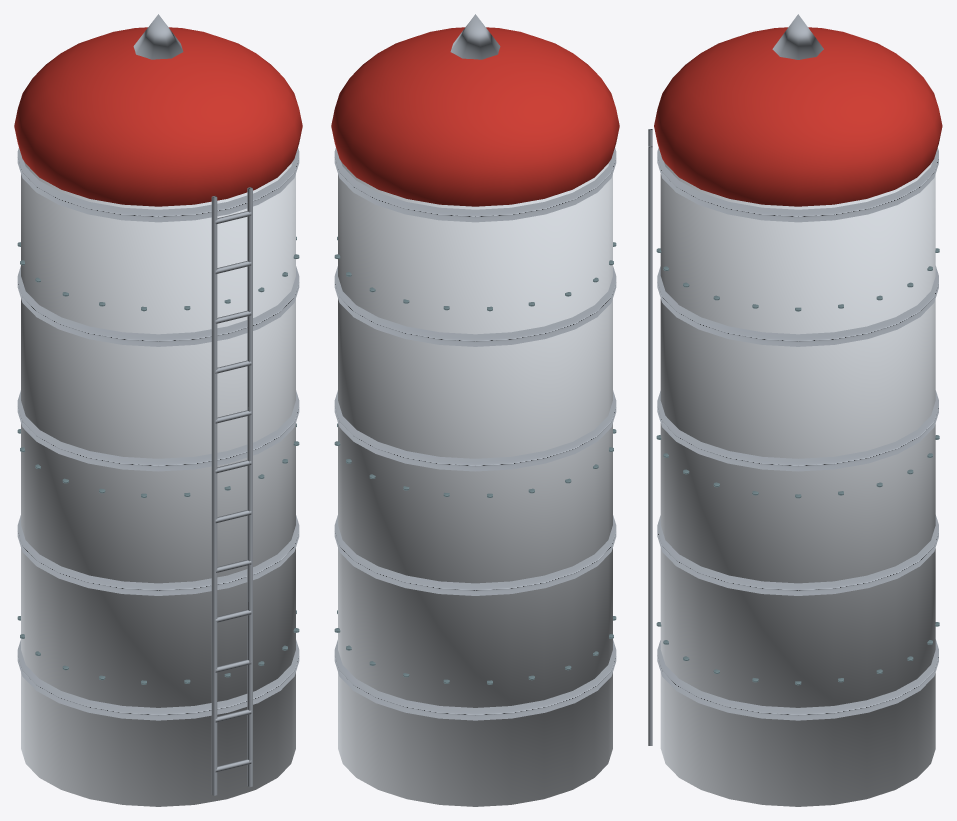
The model's file is silo.glb.
The picture shows the model from 3 angles, left to right: view 1: azimuth 30°, elevation 25°; view 2: azimuth 150°, elevation 25°; view 3: azimuth 270°, elevation 25°; orthographic projection.
Parts seen in each view (by area): view 1: Silo, CraftDetails; view 2: Silo, CraftDetails; view 3: Silo, CraftDetails.
Part boxes in pixels (<box>): Silo: <box>14,14,302,806</box>; CraftDetails: <box>17,236,299,684</box>; Silo: <box>331,14,619,806</box>; CraftDetails: <box>334,236,616,684</box>; Silo: <box>648,14,942,806</box>; CraftDetails: <box>656,248,939,685</box>.
Size of the model in its own units: 4.2 by 11.8 by 4.28.
